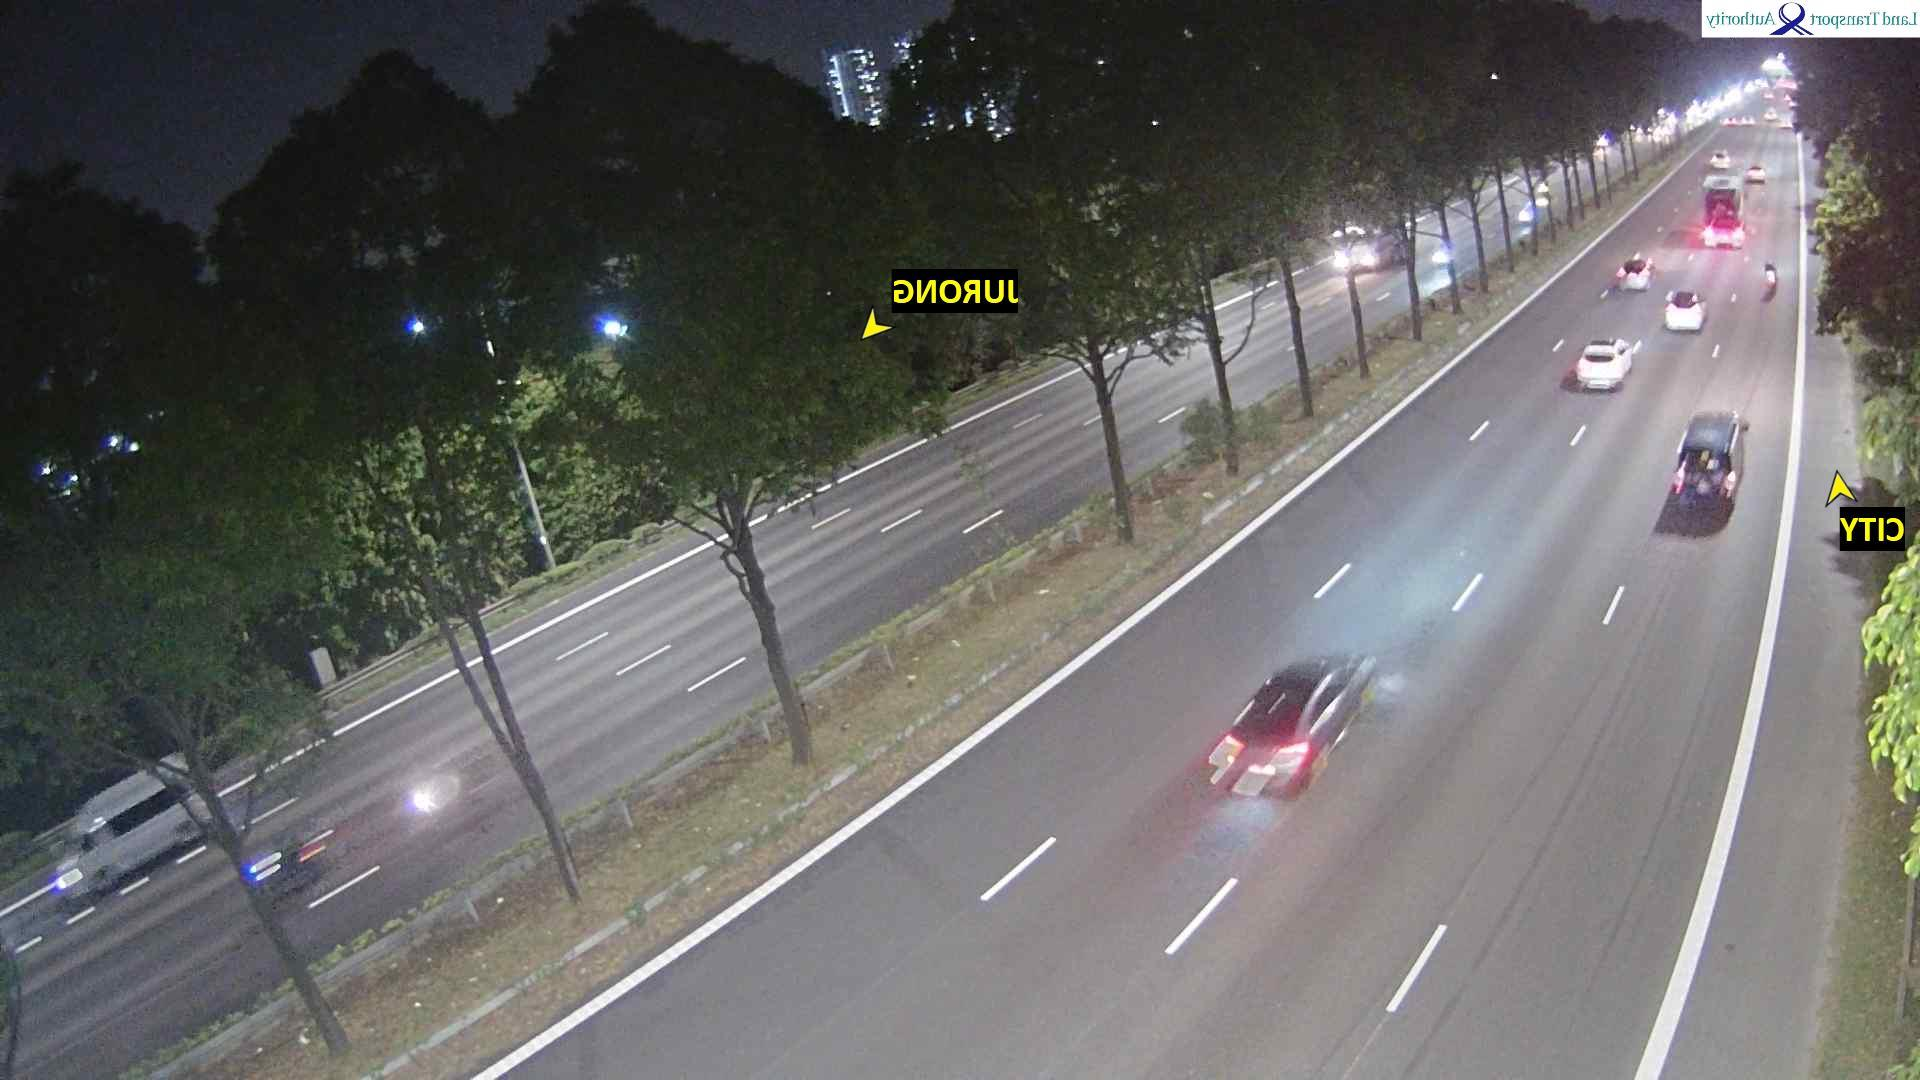cars: (1207, 650, 1380, 800), (56, 763, 214, 898), (1671, 408, 1749, 504), (1576, 336, 1643, 391), (1332, 225, 1404, 275), (1665, 288, 1709, 332), (1702, 212, 1747, 248), (1615, 253, 1655, 291), (1776, 77, 1800, 97), (1723, 114, 1757, 127), (1711, 148, 1732, 169), (1746, 163, 1767, 183), (1764, 106, 1782, 123)
motorcycle: (239, 825, 336, 898), (405, 768, 463, 819), (1516, 202, 1537, 243), (1432, 238, 1454, 266), (1765, 260, 1779, 291), (1535, 179, 1552, 204)
trucks: (1703, 173, 1744, 223)
